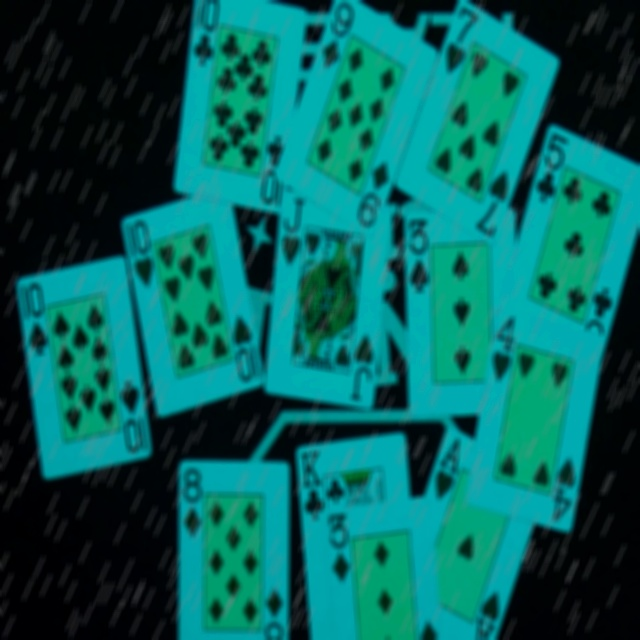10C: (256, 129, 287, 210), (187, 0, 220, 74)
10H: (227, 307, 264, 388), (122, 212, 157, 292)
10S: (16, 277, 50, 361), (116, 375, 150, 458)
3D: (325, 510, 355, 586), (409, 609, 455, 640)
4H: (483, 305, 522, 389), (546, 449, 584, 532)
5C: (577, 277, 618, 358), (531, 127, 568, 212)
7H: (434, 1, 480, 86)
8D: (179, 467, 206, 539), (259, 580, 289, 640)
9D: (354, 149, 394, 239), (313, 0, 355, 80)
AH: (424, 430, 464, 509), (465, 582, 506, 640)
JH: (275, 193, 307, 269), (348, 327, 377, 403)
KC: (296, 445, 326, 524)
